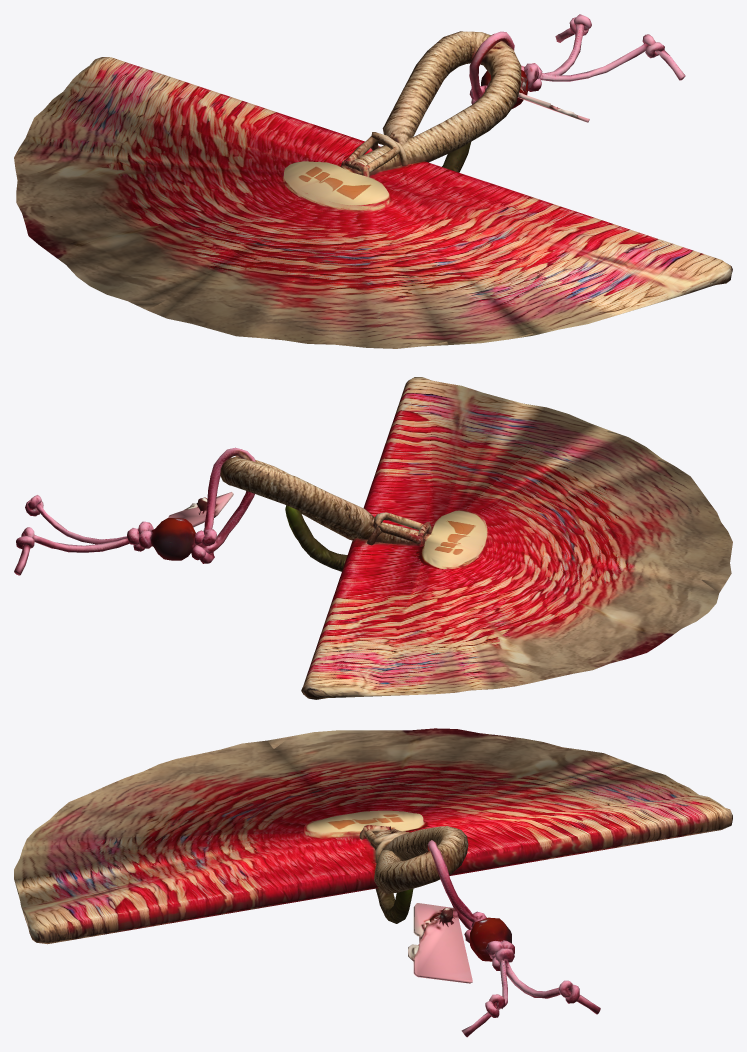
Rendered from 手工扇子3d模型.glb.
The picture shows the model from 3 angles, top to bottom: view 1: azimuth 30°, elevation 25°; view 2: azimuth 150°, elevation 25°; view 3: azimuth 270°, elevation 25°; orthographic projection. The views are drawn at different scales.
Parts seen in each view (by area): view 1: tripo_node_87653c6a-fdd8-4597-91cc-3004849f2191; view 2: tripo_node_87653c6a-fdd8-4597-91cc-3004849f2191; view 3: tripo_node_87653c6a-fdd8-4597-91cc-3004849f2191.
Boxes of the visible parts, x1,y1,x2,y2 form: tripo_node_87653c6a-fdd8-4597-91cc-3004849f2191: (14, 14, 732, 348); tripo_node_87653c6a-fdd8-4597-91cc-3004849f2191: (14, 377, 732, 699); tripo_node_87653c6a-fdd8-4597-91cc-3004849f2191: (14, 728, 732, 1037).
Bounding box in the file's own units: 0.9941 × 0.1816 × 0.998.
1 material, 1 textured.
